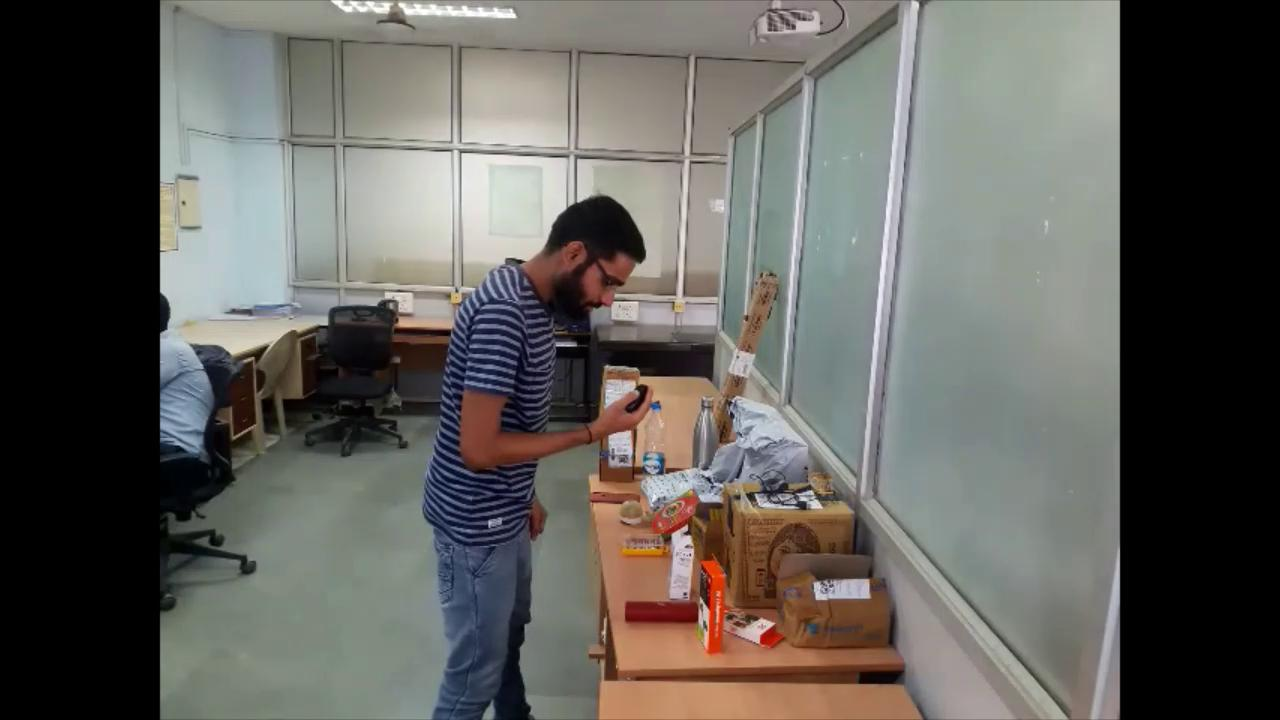Normal: (419, 194, 661, 720)
